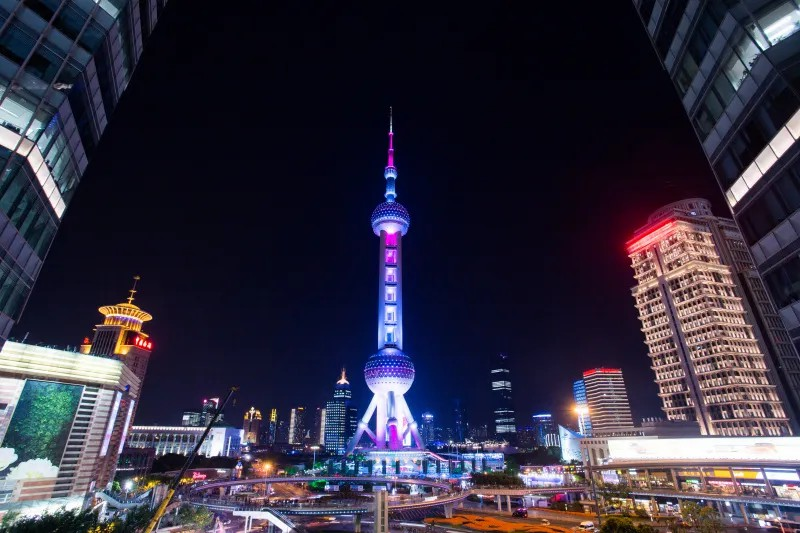Oriental: (348, 104, 426, 450)
